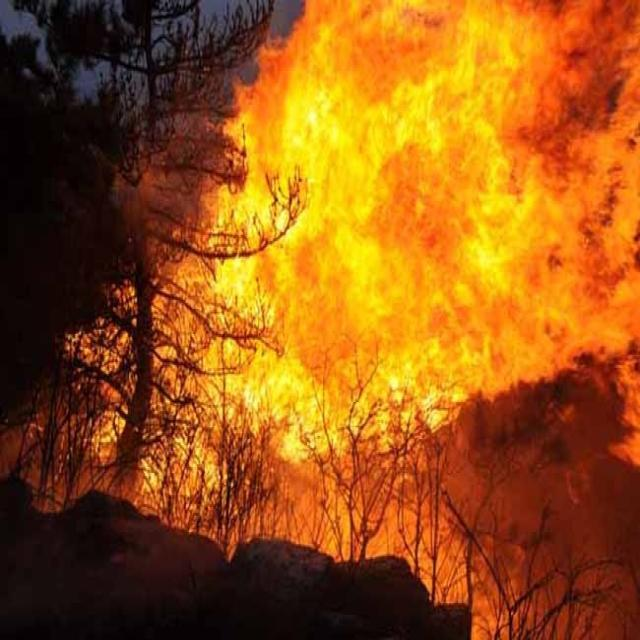Fire: (61, 1, 640, 564)
